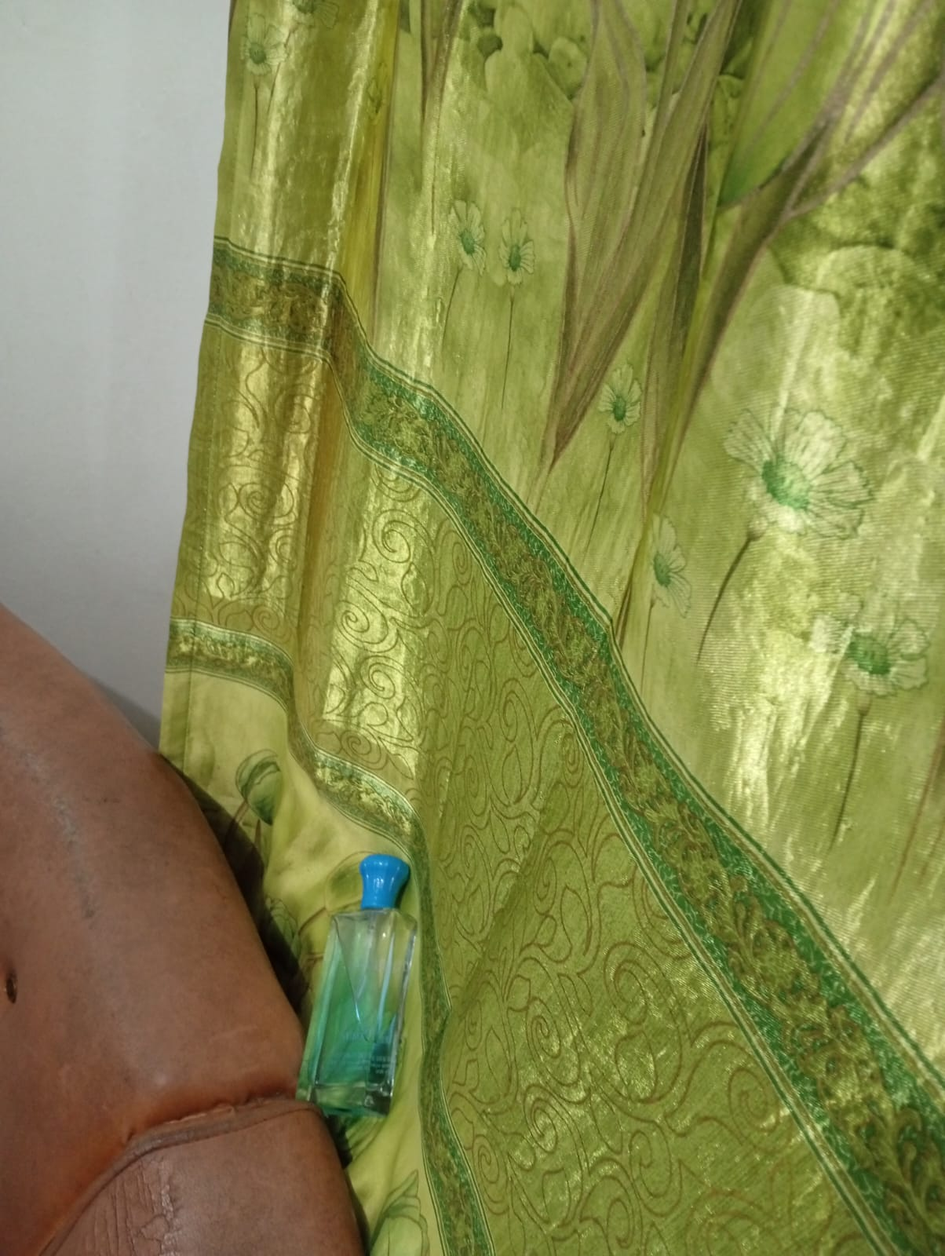Parfum: (322, 808, 472, 1114)
